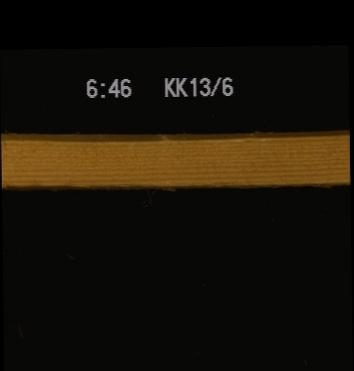wave: (0, 171, 349, 194)
